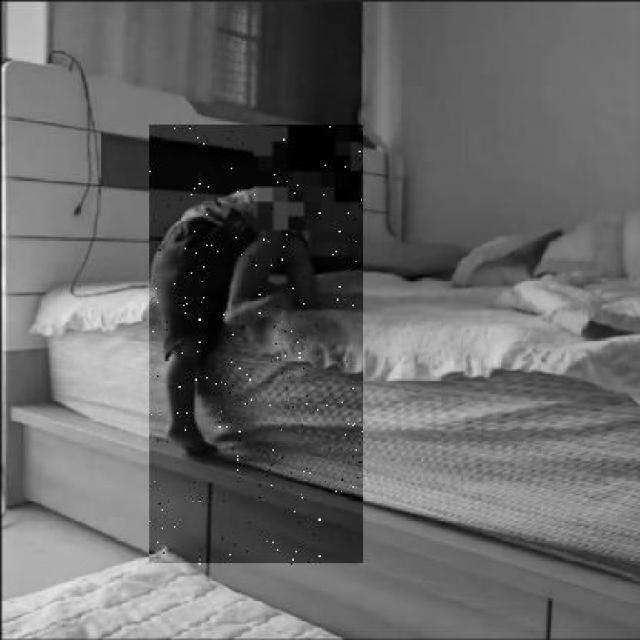child: (149, 126, 363, 566)
